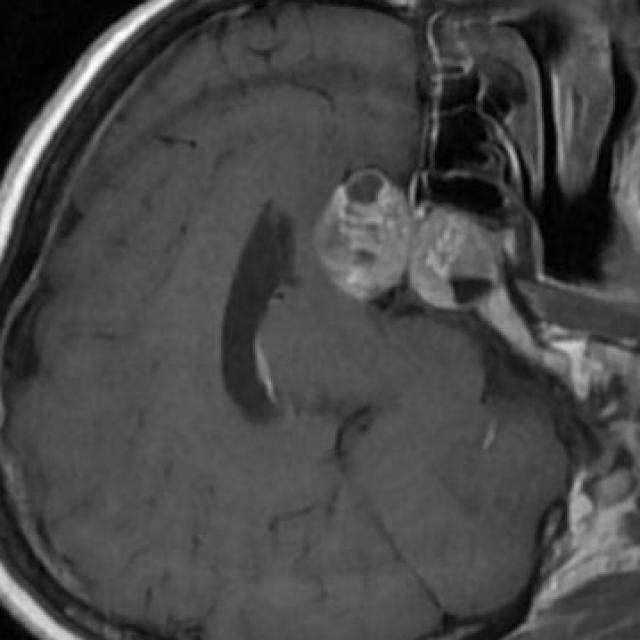pituitary: (314, 168, 497, 310)
